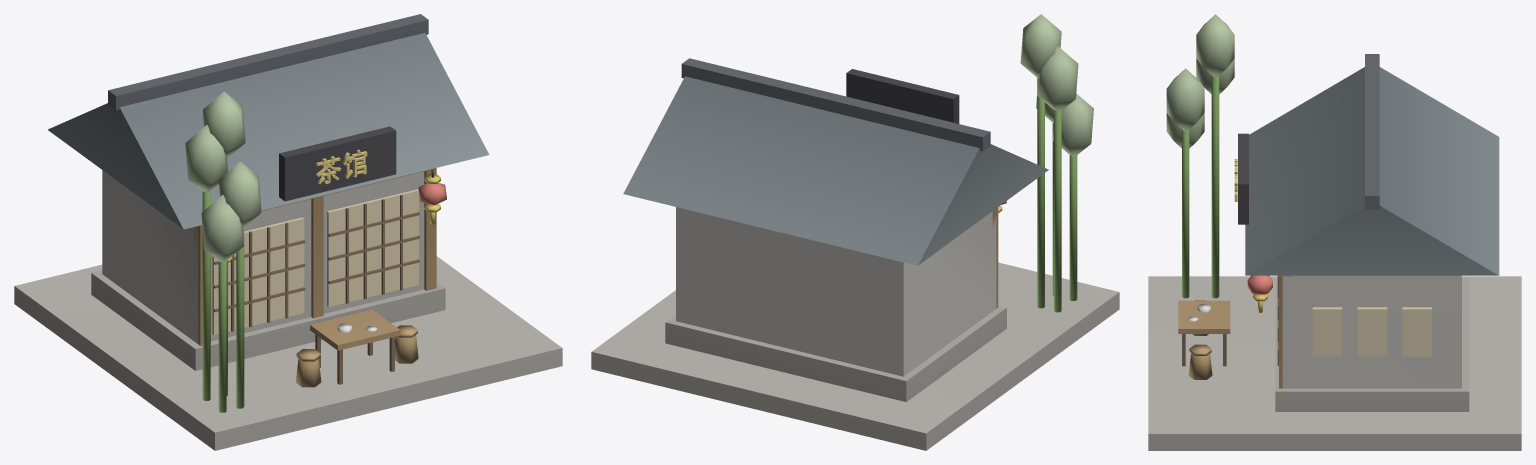
Rendered from teahouse.glb.
The picture shows the model from 3 angles, left to right: view 1: azimuth 30°, elevation 25°; view 2: azimuth 150°, elevation 25°; view 3: azimuth 270°, elevation 25°; orthographic projection. The views are drawn at different scales.
Parts seen in each view (by area): view 1: teahouse; view 2: teahouse; view 3: teahouse.
Boxes of the visible parts, left/top/right/bottom form: teahouse: left=14, top=14, right=562, bottom=450; teahouse: left=591, top=14, right=1119, bottom=450; teahouse: left=1148, top=14, right=1521, bottom=450.
Size of the model in its own units: 1 by 0.886 by 1.
